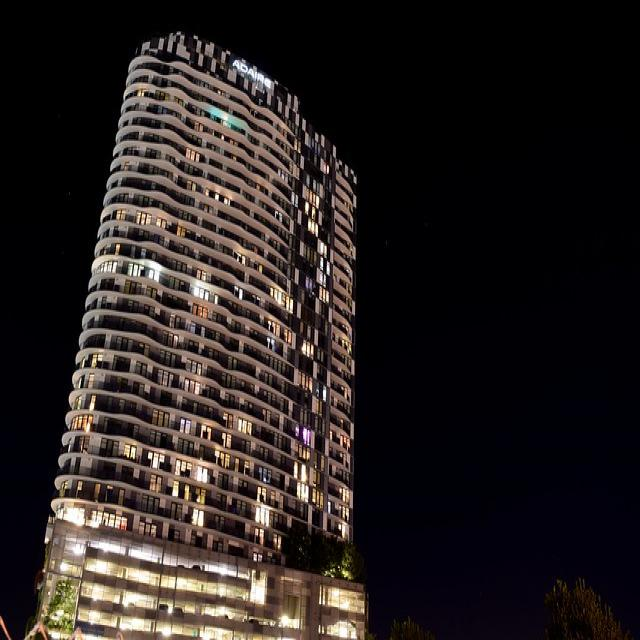Normal_building: (14, 24, 370, 640)
